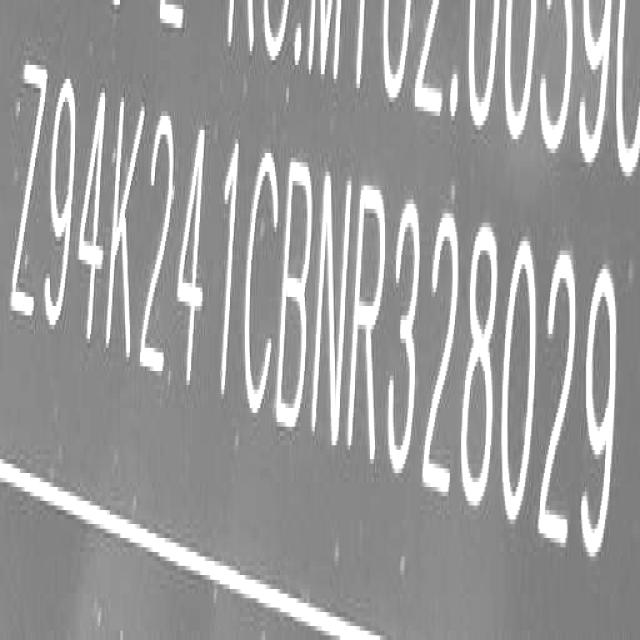0: (502, 232, 539, 526)
1: (217, 135, 241, 407)
2: (540, 249, 576, 553), (428, 212, 460, 500), (142, 104, 174, 382)
3: (391, 195, 423, 477)
4: (78, 82, 110, 354), (179, 123, 210, 391)
8: (463, 226, 499, 512)
9: (584, 268, 620, 565), (47, 71, 78, 336)
B: (279, 154, 316, 435)
C: (244, 150, 278, 424)
K: (111, 91, 142, 368)
N: (315, 164, 350, 446)
R: (350, 187, 387, 467)
Z: (10, 51, 46, 326)
